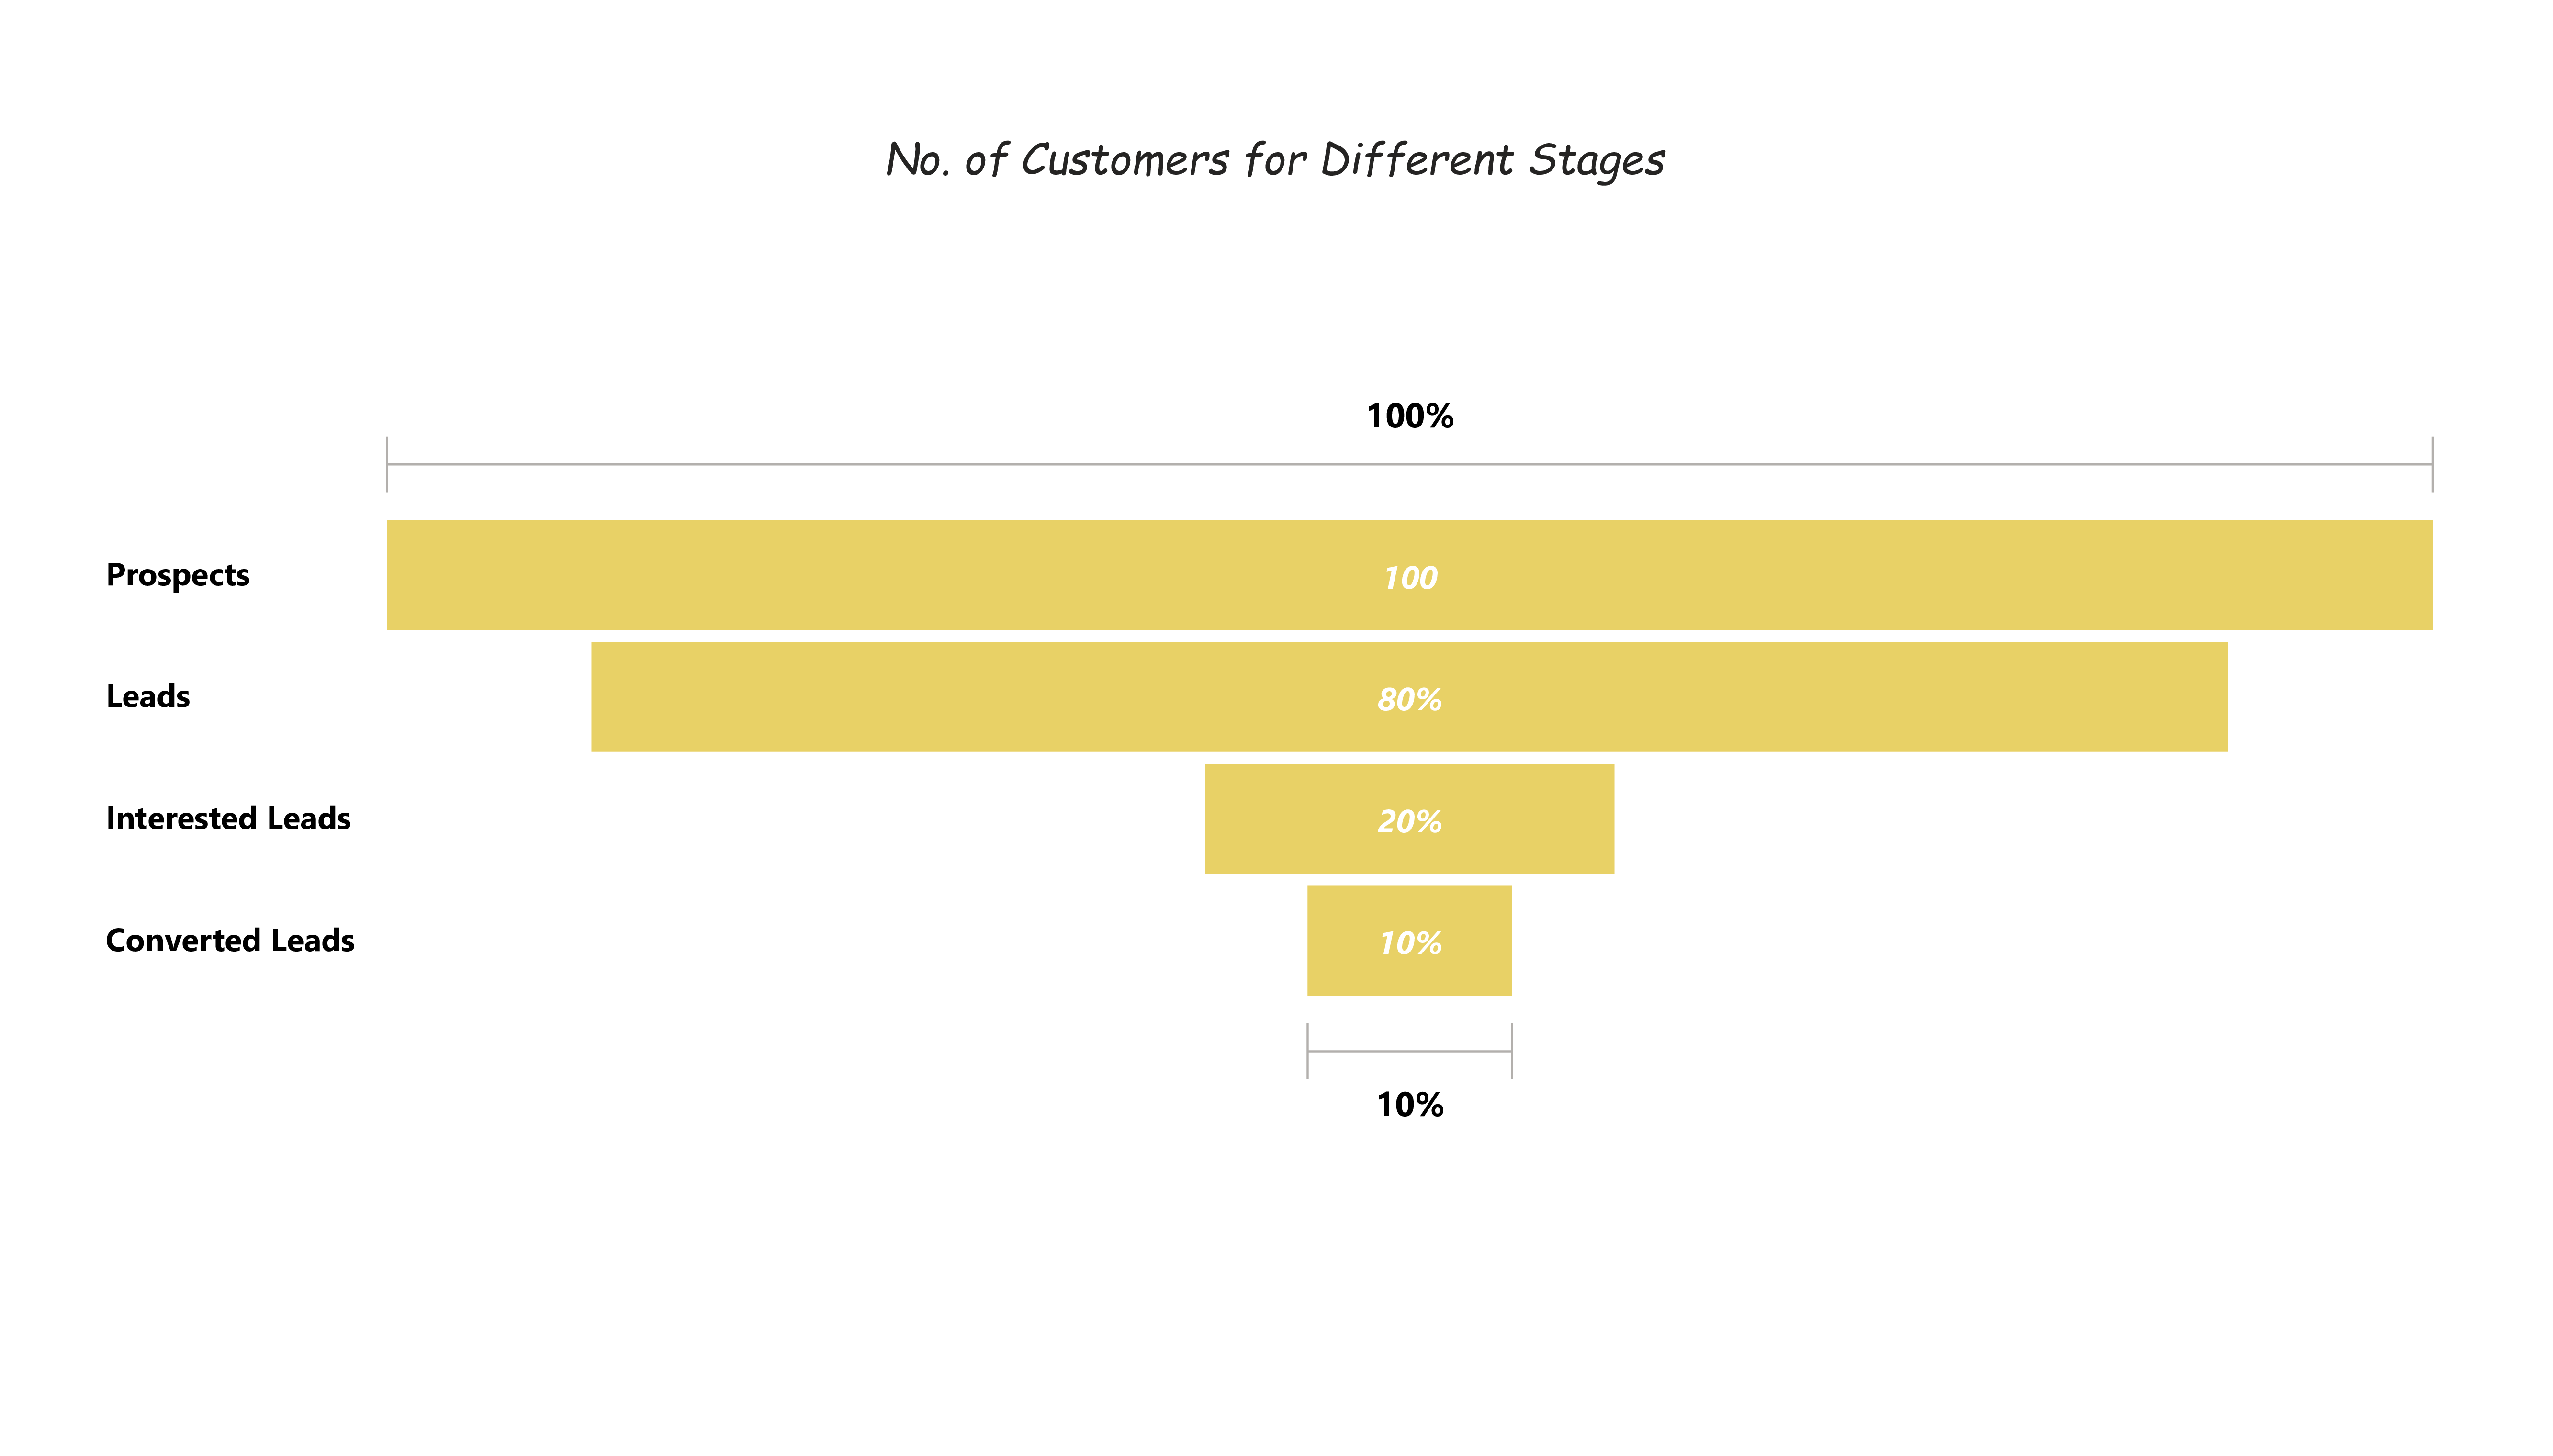

What the dashboard file says about the page in this screenshot:
{"tool":"powerbi","page":{"name":"Funnel","canvas":[1280,720],"ordinal":12},"visuals":[{"type":"funnel","title":"No. of Customers for Different Stages","fields":{"Y":["Sum(Leads.Count)"],"Category":["Leads.Type"]},"box":[48.3,58.3,1181.7,603.3],"z":0}]}

Visuals, with their boxes in screenshot pixels (x1, y1, x2, y2), scaled from the page's 1280x720 canvas onto the 2553x1456 screenshot:
"No. of Customers for Different Stages" funnel: (left=96, top=118, right=2453, bottom=1338)
